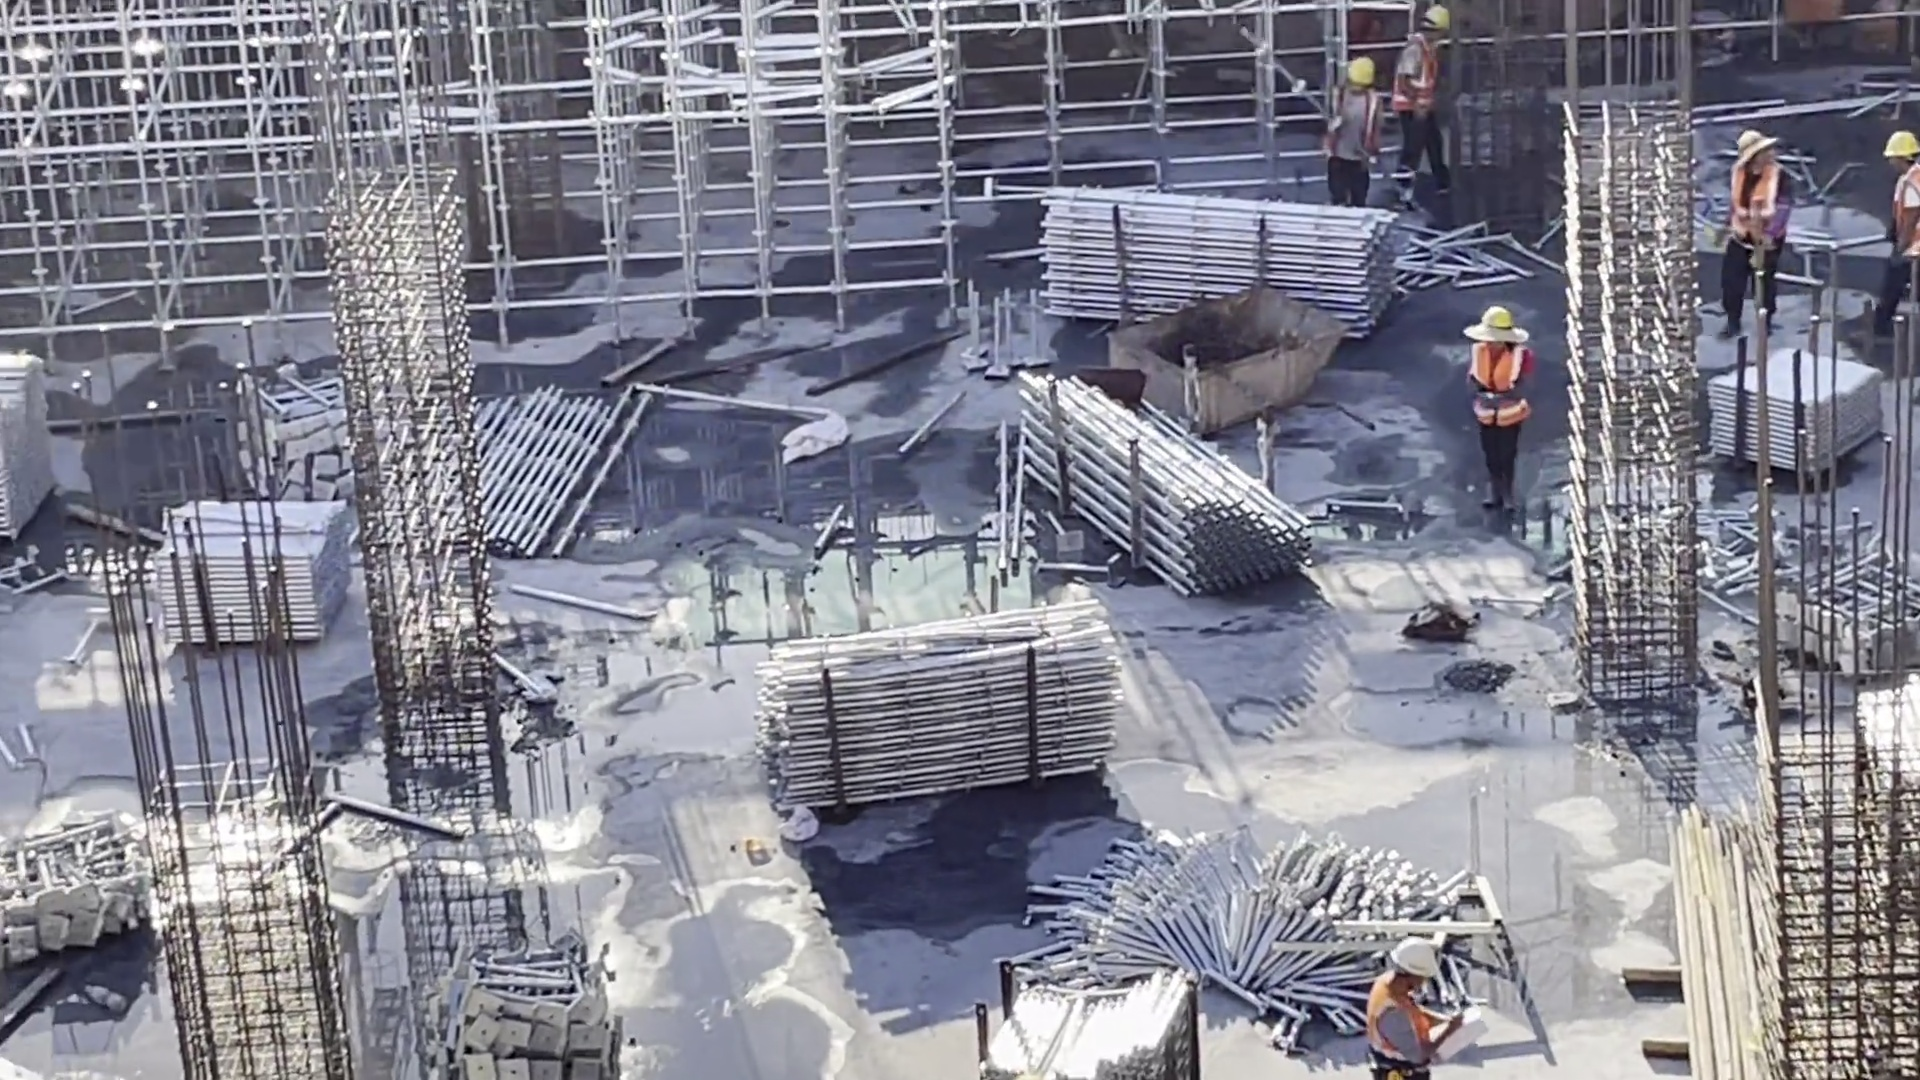helmet: (1378, 938, 1440, 984), (1473, 307, 1524, 333), (1878, 127, 1917, 158), (1730, 127, 1765, 156), (1343, 64, 1375, 90), (1425, 3, 1448, 33)
person: (1704, 122, 1793, 352), (1375, 6, 1484, 187), (1456, 300, 1534, 523), (1348, 928, 1453, 1080), (1315, 57, 1399, 215), (1867, 109, 1920, 345)
vest: (1724, 171, 1788, 257), (1469, 346, 1528, 421), (1367, 987, 1424, 1063), (1396, 41, 1444, 125), (1330, 98, 1378, 156), (1889, 175, 1920, 247)
